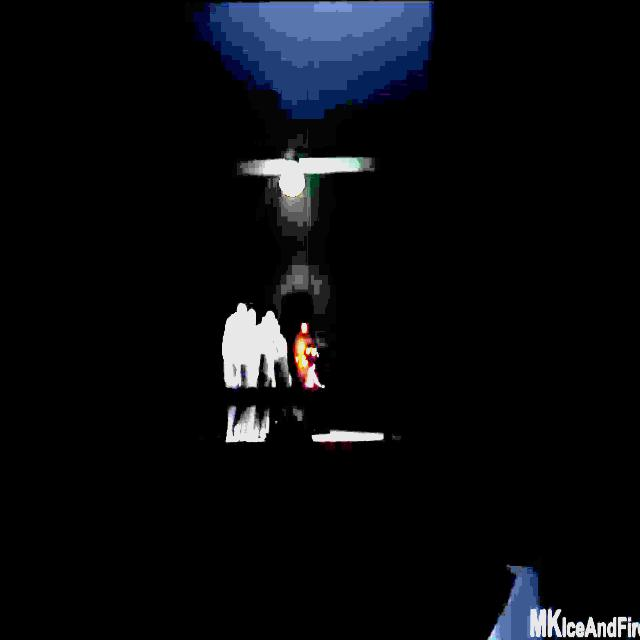boy: (302, 362, 325, 407)
zombie: (222, 304, 246, 441), (258, 312, 275, 442), (244, 310, 258, 441), (275, 320, 287, 382)
